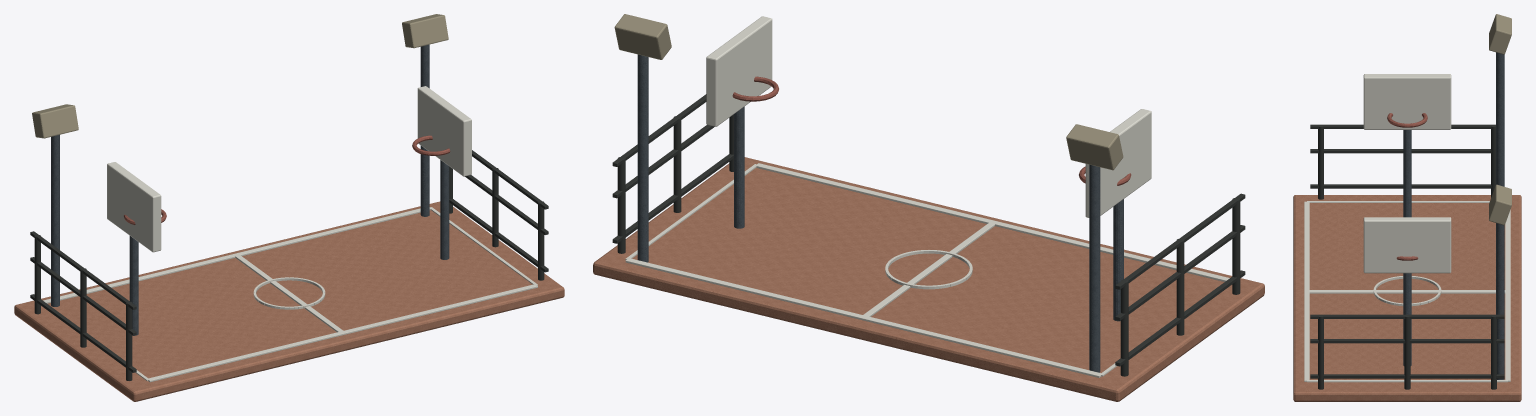
The model's file is SPORT_BASKET_2x1_001.glb.
The picture shows the model from 3 angles, left to right: view 1: azimuth 30°, elevation 25°; view 2: azimuth 150°, elevation 25°; view 3: azimuth 270°, elevation 25°; orthographic projection. The views are drawn at different scales.
Parts seen in each view (by area): view 1: SPORT_BASKET_2x1_001_Visual; view 2: SPORT_BASKET_2x1_001_Visual; view 3: SPORT_BASKET_2x1_001_Visual.
Boxes of the visible parts, box(x1,y1,x2,y2) form: SPORT_BASKET_2x1_001_Visual: box(14, 14, 564, 401); SPORT_BASKET_2x1_001_Visual: box(593, 14, 1264, 401); SPORT_BASKET_2x1_001_Visual: box(1293, 14, 1521, 401).
Size of what is drawn, in the model's own units: 3.88 by 1.78 by 1.88.
Materials: 6 (3 with a texture image).
